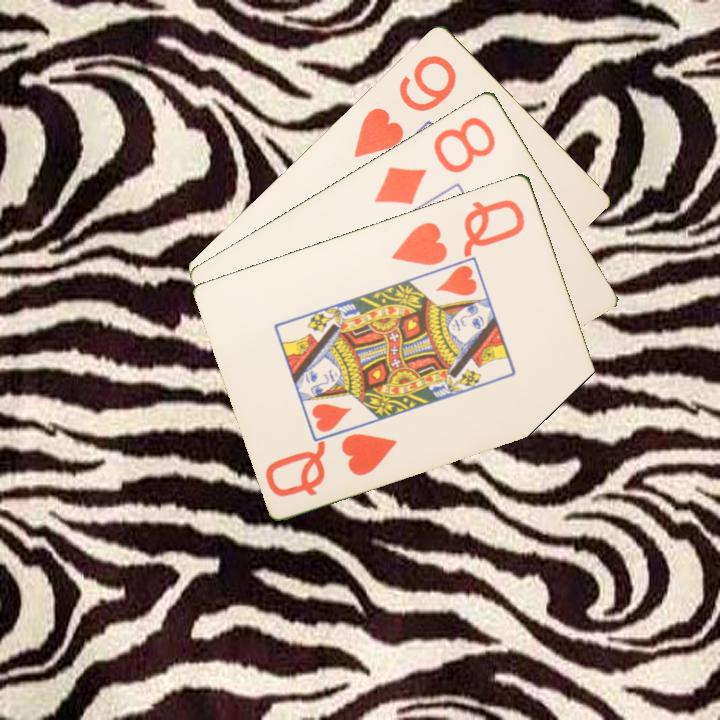8d: (370, 112, 499, 207)
9h: (350, 50, 460, 160)
Qh: (388, 195, 528, 268), (262, 429, 401, 500)
